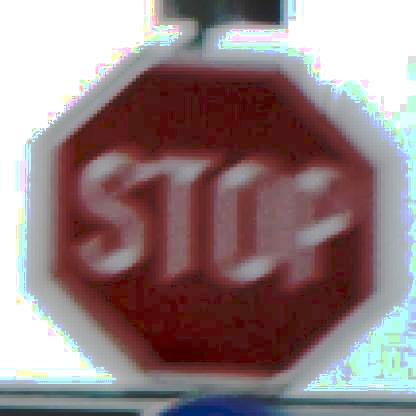Stop Sign: (34, 45, 400, 396)
